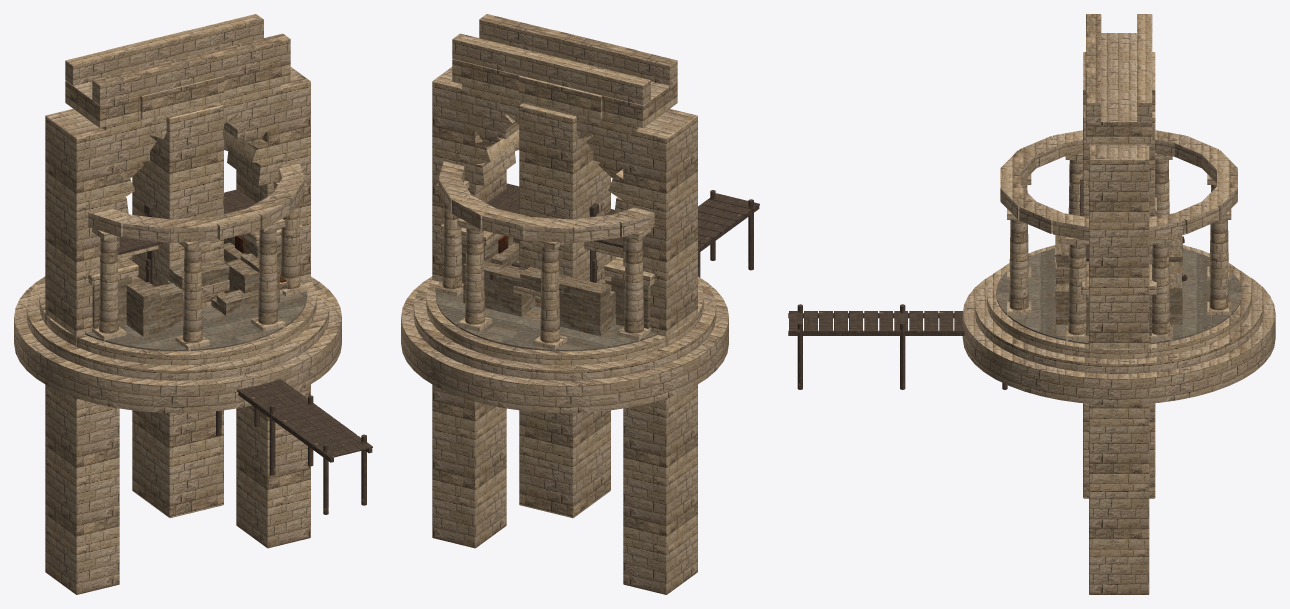
The model's file is structures.glb.
3 views of the same model, side by side, from view 1: azimuth 30°, elevation 25°; view 2: azimuth 150°, elevation 25°; view 3: azimuth 270°, elevation 25° (orthographic). The views are drawn at different scales.
Parts seen in each view (by area): view 1: aqueduct_span, shrine, aqueduct_spout, jetty, hut_a, sluice_house, hut_b; view 2: aqueduct_span, shrine, aqueduct_spout, hut_a, sluice_house, jetty; view 3: shrine, aqueduct_span, jetty, aqueduct_spout, hut_a, sluice_house.
Part boxes in pixels (x1,y1,x2,y2): aqueduct_span: (45,14,310,594); shrine: (14,141,341,413); aqueduct_spout: (106,30,224,517); jetty: (216,379,372,514); hut_a: (126,242,279,336); sluice_house: (88,189,302,328); hut_b: (127,255,258,311); aqueduct_span: (432,14,697,594); shrine: (401,129,728,413); aqueduct_spout: (519,30,652,517); hut_a: (463,238,615,336); sluice_house: (440,183,654,328); jetty: (698,190,759,277); shrine: (962,130,1275,404); aqueduct_span: (1086,14,1152,594); jetty: (788,304,1007,389); aqueduct_spout: (1083,32,1155,498); hut_a: (1054,235,1187,324); sluice_house: (1079,179,1156,335).
Size of the model in its own units: 10.4 by 17.7 by 16.2.
Materials: 9 (5 with a texture image).
